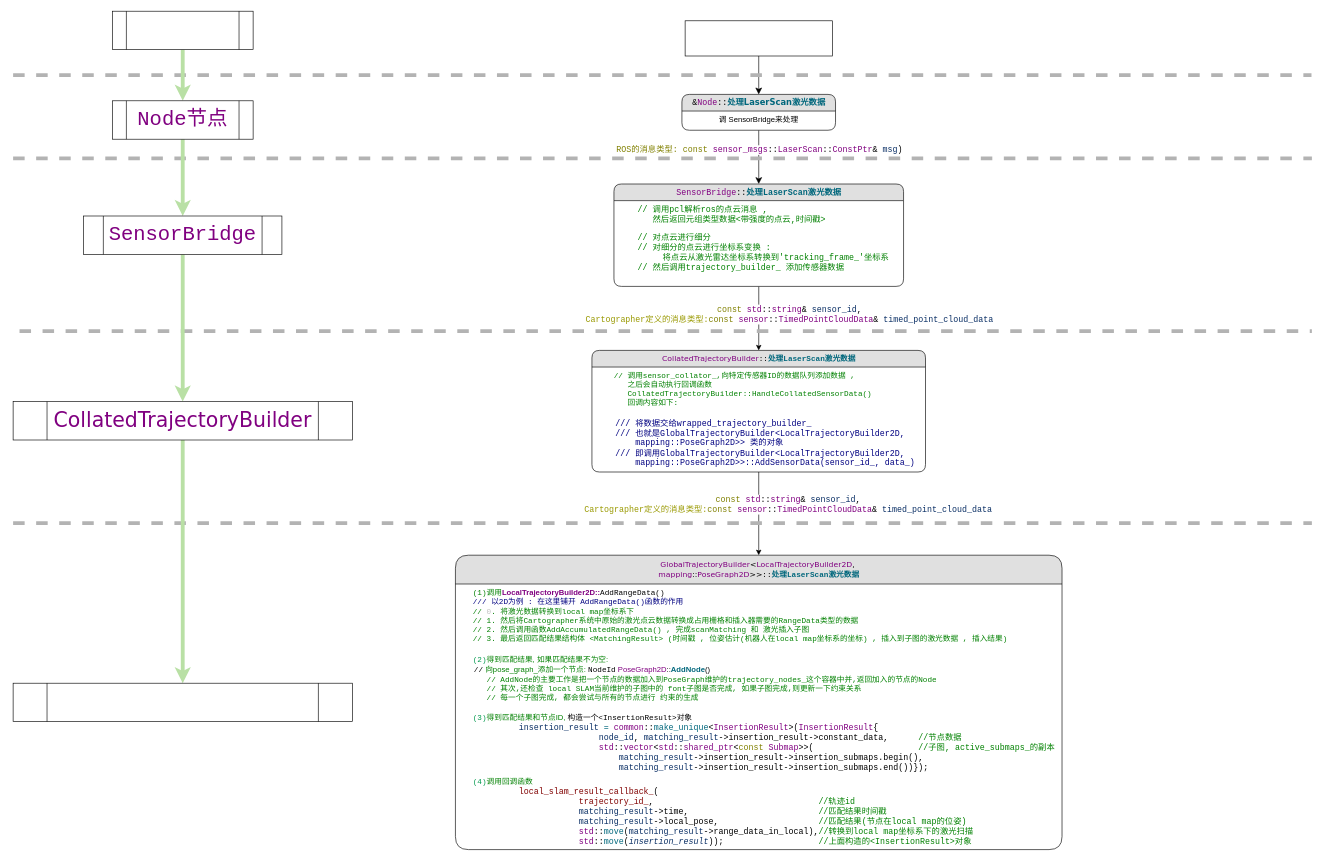
Image size: 1325x863. Some labels were removed from this diagram. The centre of each missing label's shape, as x and y in pixels:
GlobalTrajectoryBuilder: (182,702)
ROS消息数据: (182,30)
sensor_msgs :: LaserScan: (758,38)
